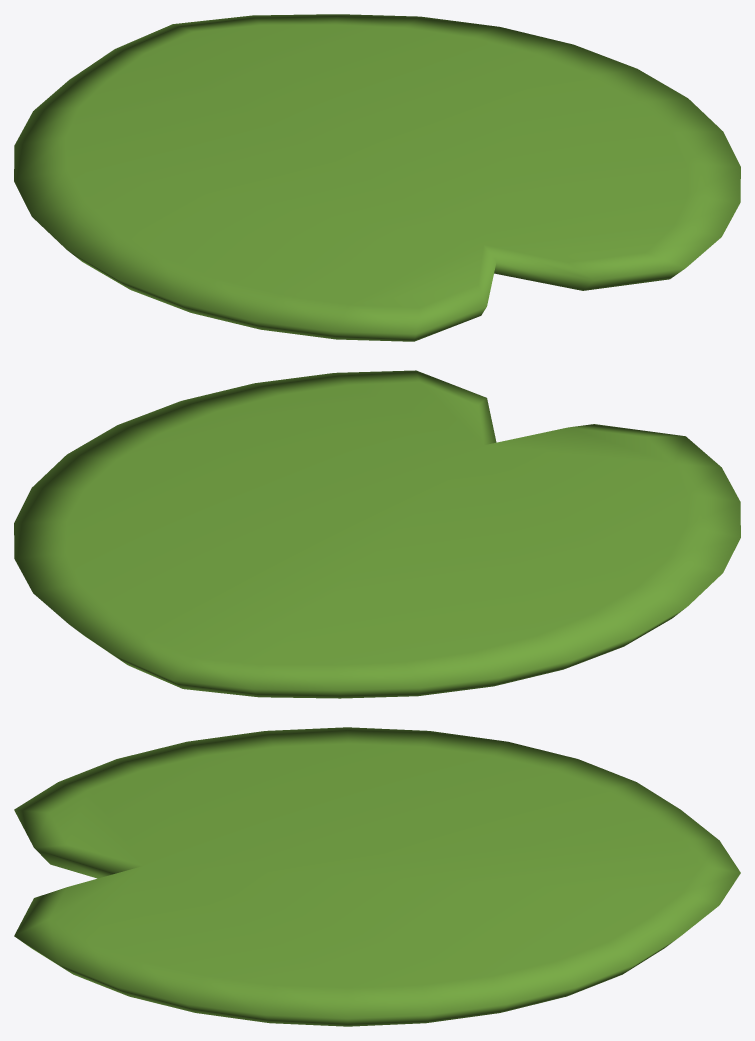
File: lilypad.fbx
The picture shows the model from 3 angles, top to bottom: view 1: azimuth 30°, elevation 25°; view 2: azimuth 150°, elevation 25°; view 3: azimuth 270°, elevation 25°; orthographic projection. The views are drawn at different scales.
Parts seen in each view (by area): view 1: Cylinder; view 2: Cylinder; view 3: Cylinder.
Boxes of the visible parts, box(x1,y1,x2,y2) form: Cylinder: box(14, 14, 740, 341); Cylinder: box(14, 370, 740, 698); Cylinder: box(14, 727, 740, 1026).
Size of the model in its own units: 736 by 26.47 by 777.
